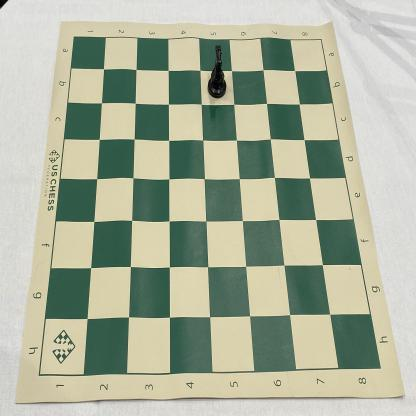black-knight: (207, 44, 227, 98)
